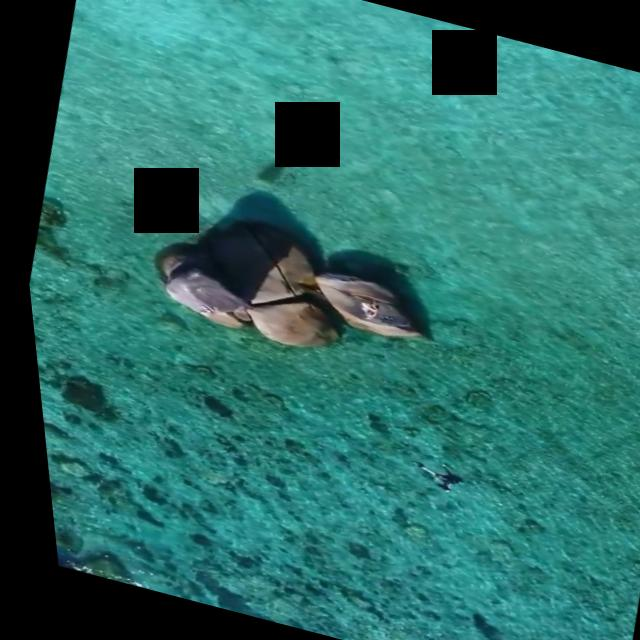Vehicle: (379, 440, 479, 512)
